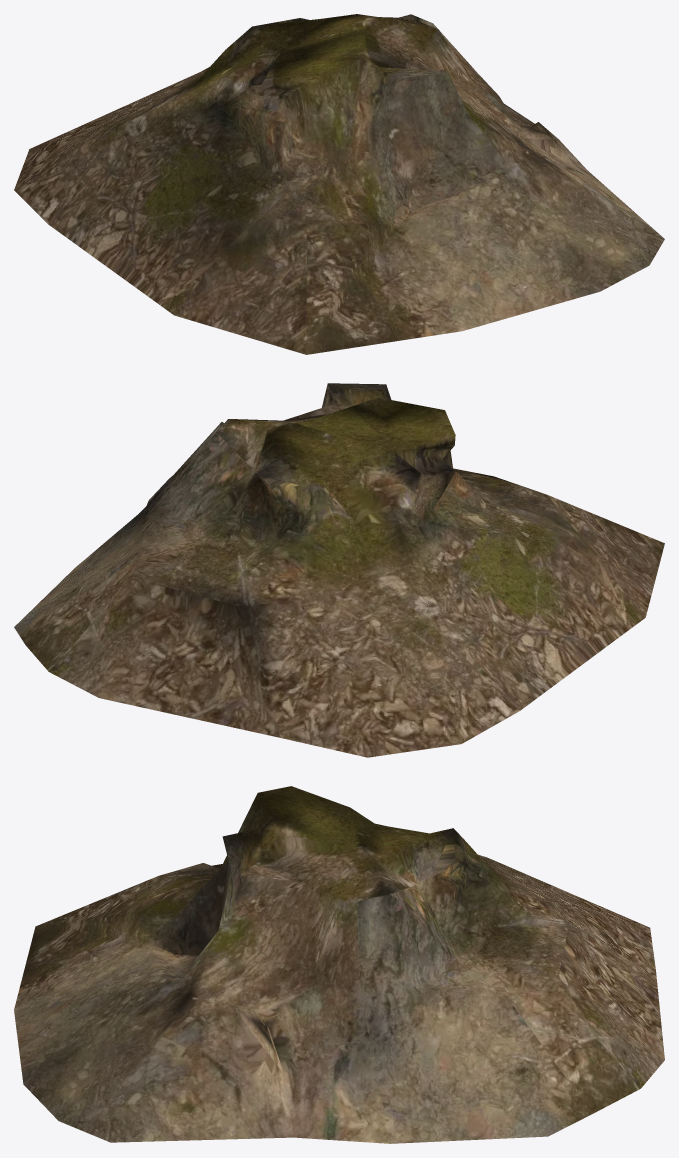
Rendered from tree_stump_01_lod1.glb.
The picture shows the model from 3 angles, top to bottom: view 1: azimuth 30°, elevation 25°; view 2: azimuth 150°, elevation 25°; view 3: azimuth 270°, elevation 25°; orthographic projection. The views are drawn at different scales.
Parts seen in each view (by area): view 1: tree_stump_01; view 2: tree_stump_01; view 3: tree_stump_01.
Part boxes in pixels (box(x1,y1,x2,y2)): tree_stump_01: box(14, 14, 664, 354); tree_stump_01: box(14, 383, 664, 757); tree_stump_01: box(14, 786, 664, 1143).
Size of the model in its own units: 1.42 by 0.539 by 1.59.
Materials: 1 (1 with a texture image).
